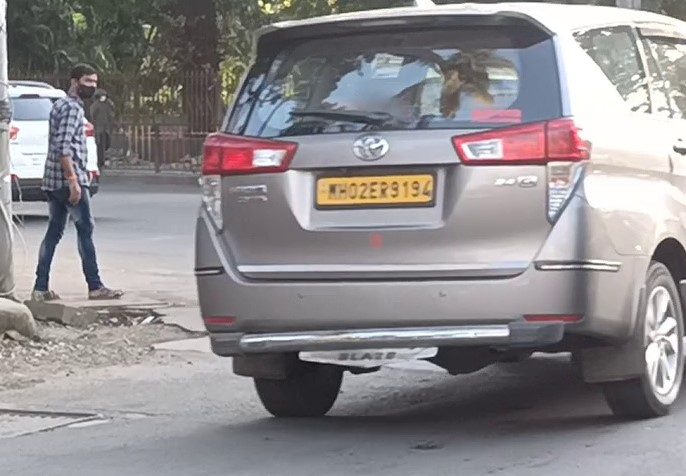MH02ER9194: (316, 173, 434, 203)
